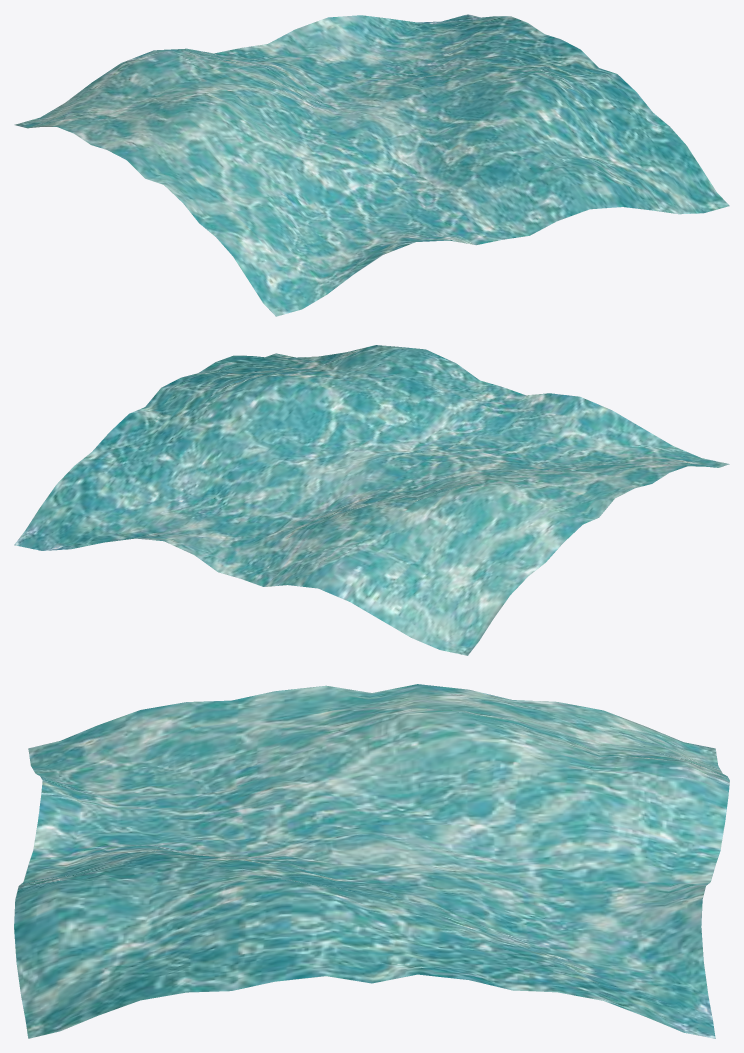
File: water_000075.obj
3 renders of one model, top to bottom at view 1: azimuth 30°, elevation 25°; view 2: azimuth 150°, elevation 25°; view 3: azimuth 270°, elevation 25°, orthographic. The views are drawn at different scales.
Parts seen in each view (by area): view 1: Plan.003_Plan.001; view 2: Plan.003_Plan.001; view 3: Plan.003_Plan.001.
Part boxes in pixels (left/top/right/bottom): Plan.003_Plan.001: left=14, top=14, right=729, bottom=316; Plan.003_Plan.001: left=14, top=345, right=729, bottom=655; Plan.003_Plan.001: left=14, top=684, right=729, bottom=1038.
Size of the model in its own units: 60681 by 8406 by 62843.
Materials: 1 (1 with a texture image).
